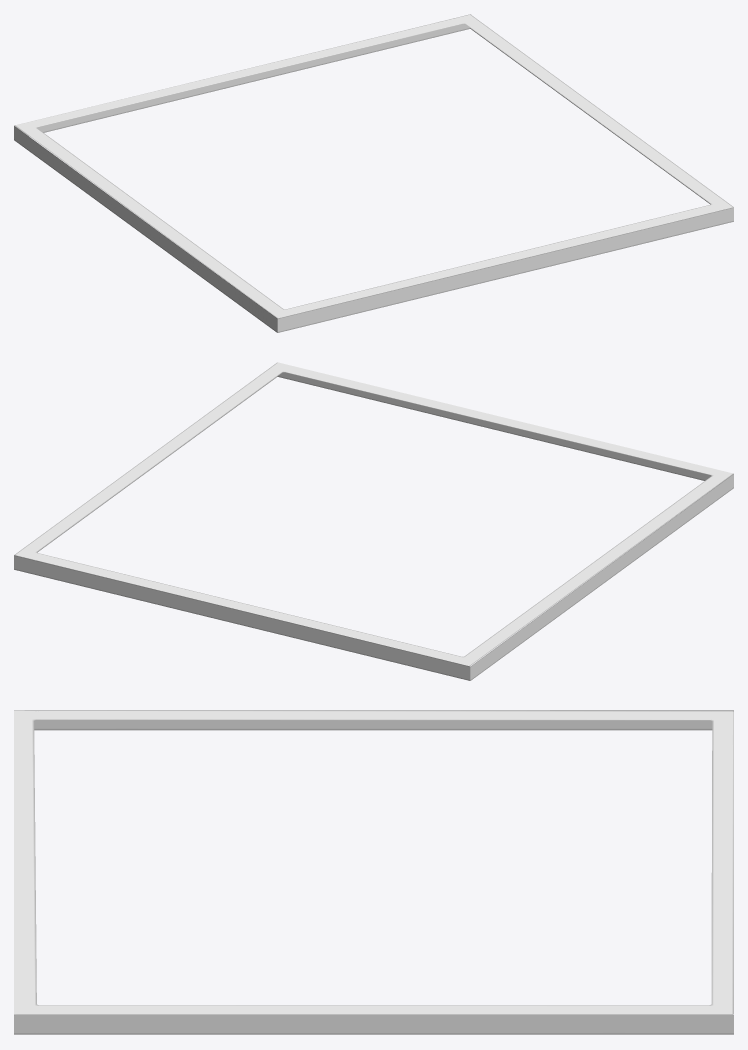
The model's file is PixelTileSelect.fbx.
3 renders of one model, top to bottom at view 1: azimuth 30°, elevation 25°; view 2: azimuth 150°, elevation 25°; view 3: azimuth 270°, elevation 25°, orthographic. The views are drawn at different scales.
Visible parts, largest first — view 1: PixelBasic.002; view 2: PixelBasic.002; view 3: PixelBasic.002.
Boxes of the visible parts, x1,y1,x2,y2 form: PixelBasic.002: (14, 14, 733, 332); PixelBasic.002: (14, 362, 733, 680); PixelBasic.002: (14, 710, 733, 1034).
Size of the model in its own units: 100 by 3.18 by 100.
